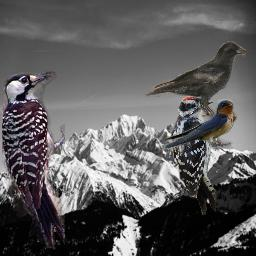Crow: (145, 41, 246, 120)
Swallow: (151, 99, 237, 149)
Woodpecker: (2, 71, 65, 248), (169, 96, 216, 215)
